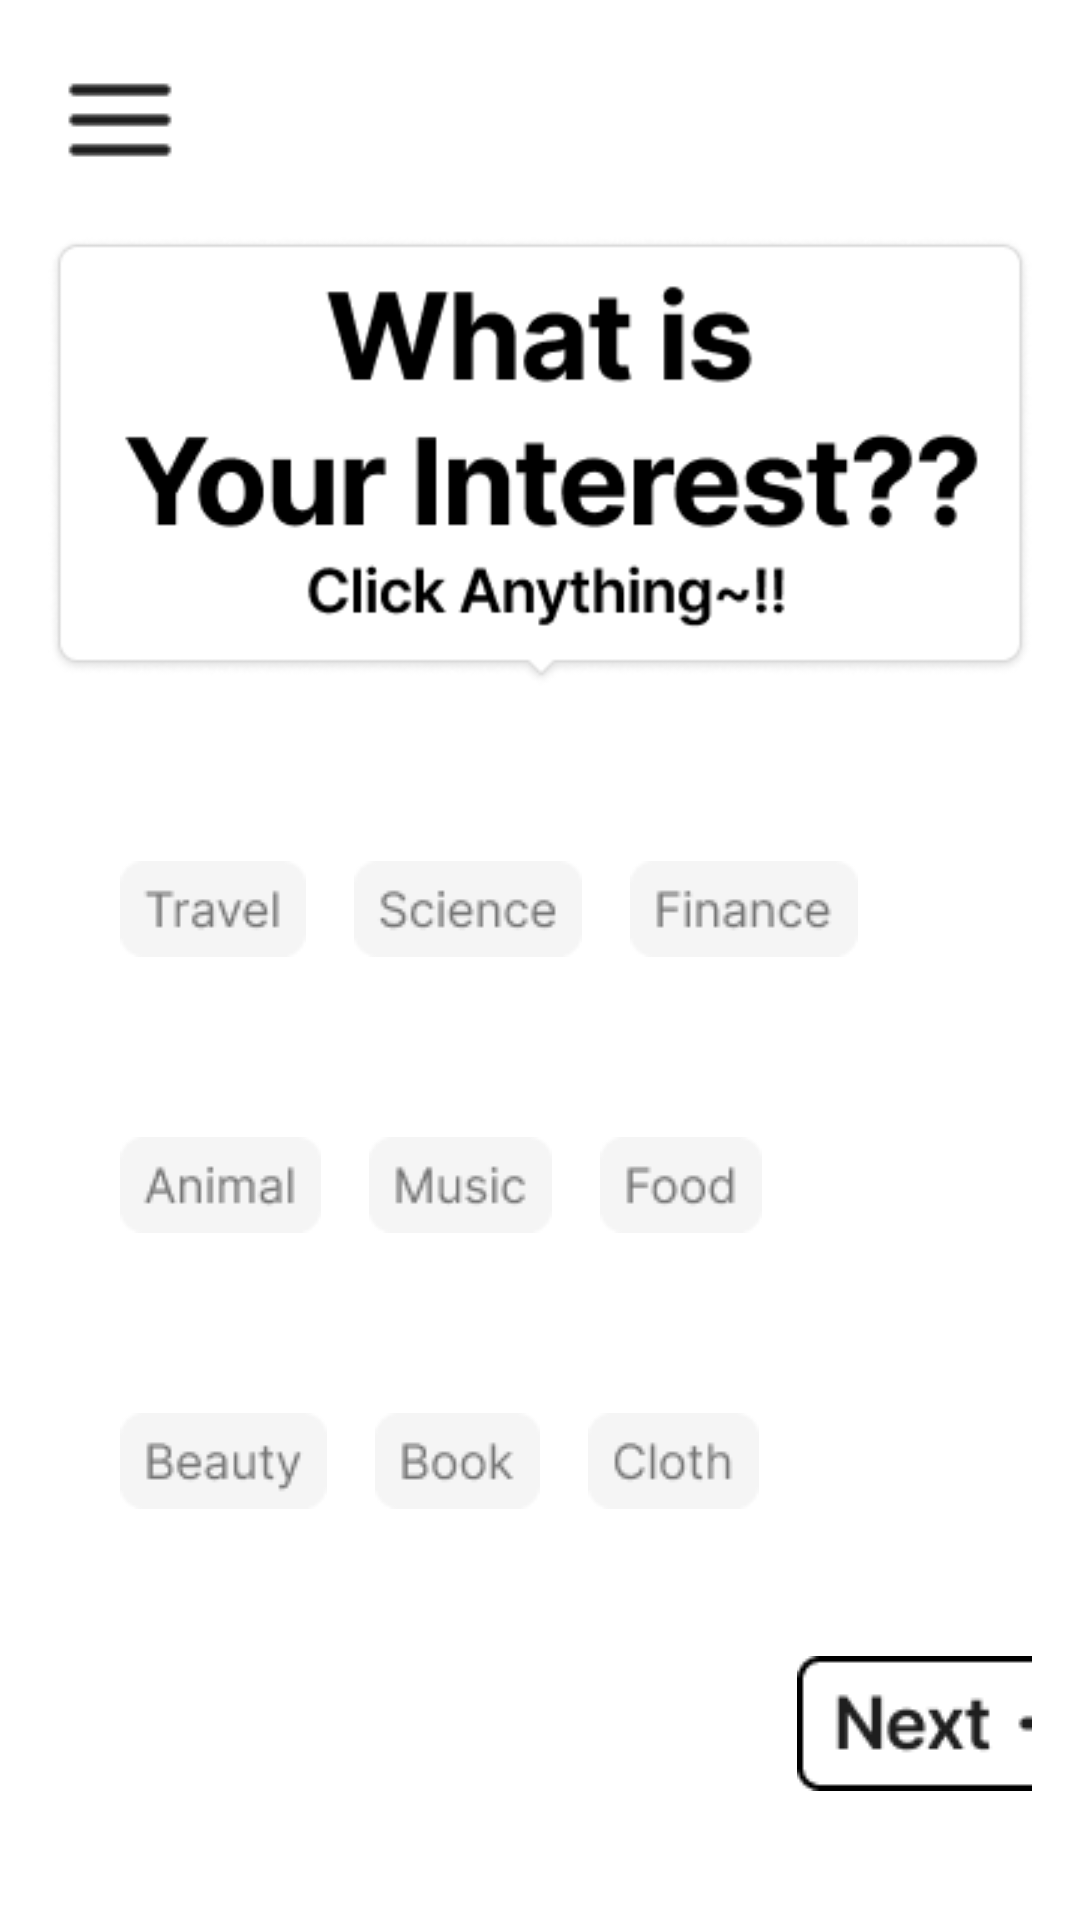

Icon bounding boxes for this 1080px×1920px phone screenshot, format rect(x1, y1, x2, y2):
Menu Button: rect(68, 83, 172, 157)
